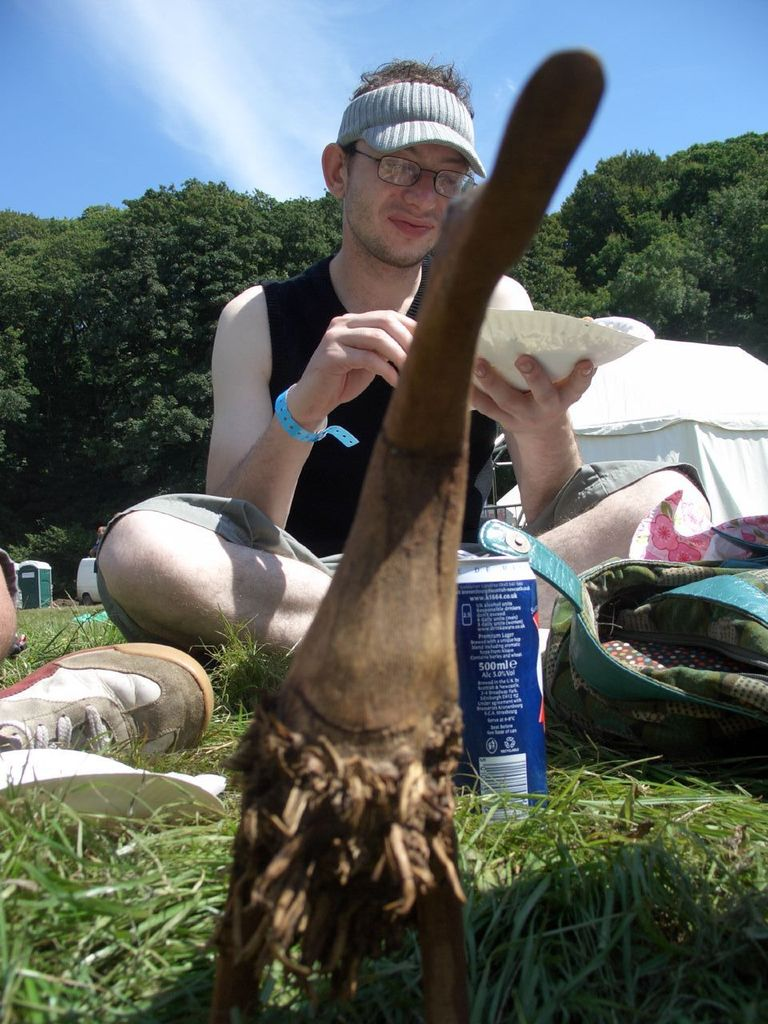Footwear: (0, 647, 218, 775)
